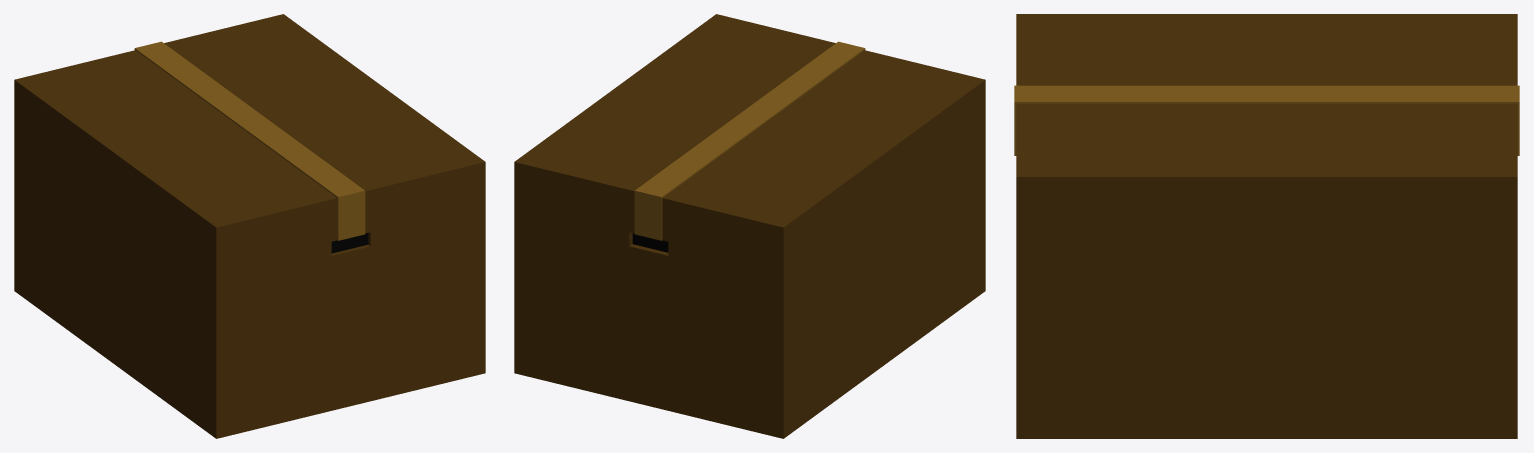
Rendered from DeliveryItem.obj.
3 views of the same model, side by side, from view 1: azimuth 30°, elevation 25°; view 2: azimuth 150°, elevation 25°; view 3: azimuth 270°, elevation 25° (orthographic). The views are drawn at different scales.
Visible parts, largest first — view 1: Cardboard; view 2: Cardboard; view 3: Cardboard.
Boxes of the visible parts, box(x1,y1,x2,y2) form: Cardboard: box(14, 14, 485, 438); Cardboard: box(514, 14, 985, 438); Cardboard: box(1014, 14, 1519, 438).
Size of the model in its own units: 6 by 4.53 by 7.86.
